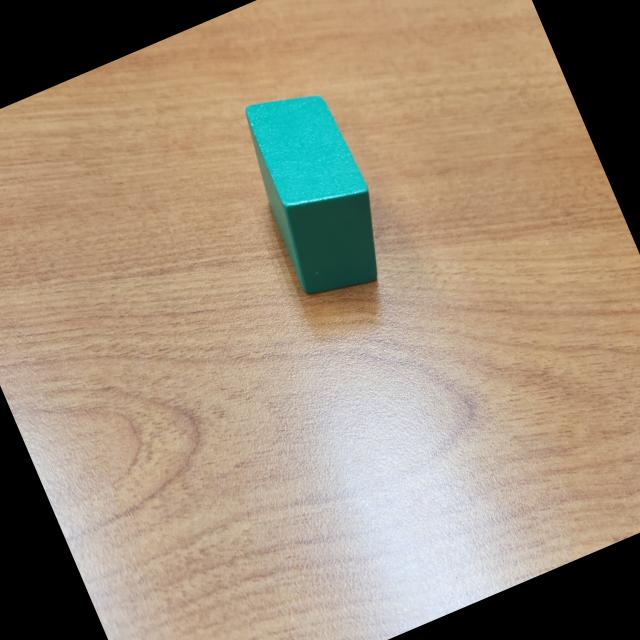green: (227, 74, 403, 310)
